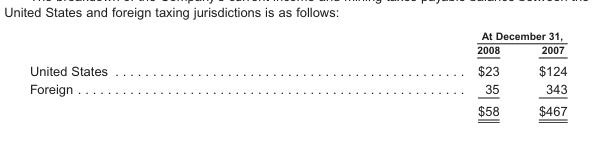table: (28, 29, 566, 118)
table column: (28, 29, 291, 118), (291, 29, 518, 118), (518, 29, 566, 118)
table column header: (28, 29, 566, 59)
table row: (28, 59, 566, 79), (28, 79, 566, 99), (28, 99, 566, 118), (28, 42, 566, 59), (28, 29, 566, 42)
table spanning cell: (291, 29, 566, 42)
